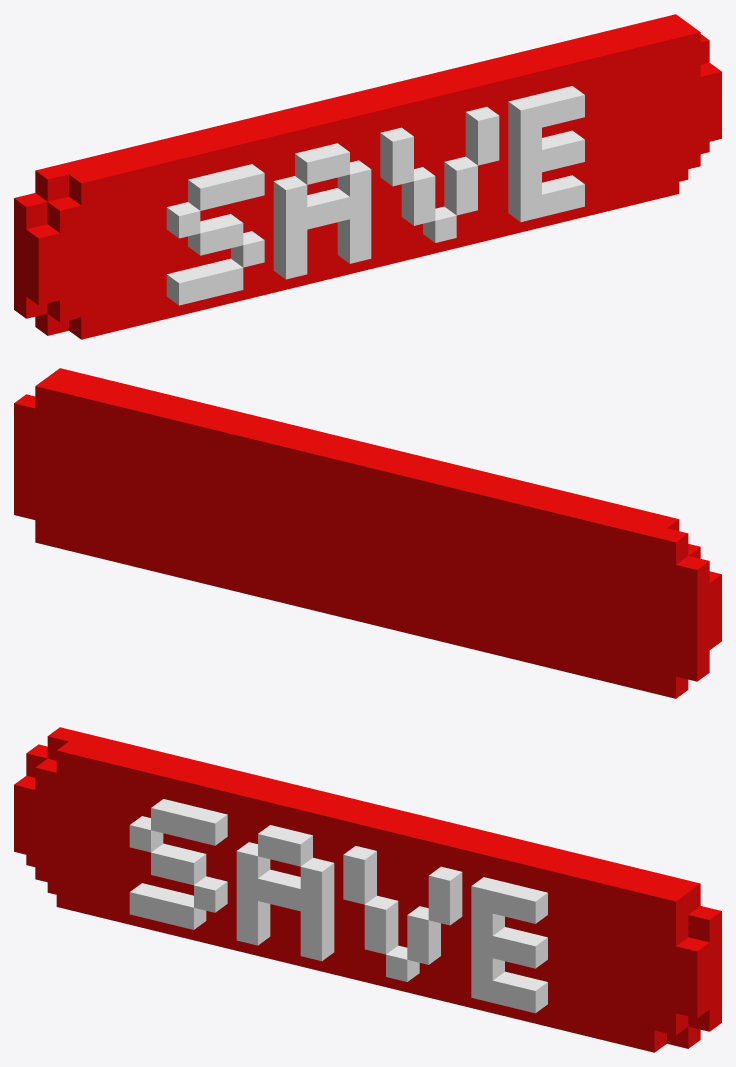
The model's file is save.obj.
3 views of the same model, one above another, from view 1: azimuth 30°, elevation 25°; view 2: azimuth 150°, elevation 25°; view 3: azimuth 330°, elevation 25° (orthographic).
Visible parts, largest first — view 1: save; view 2: save; view 3: save.
Part boxes in pixels (x1,y1,x2,y2): save: [14, 14, 721, 339]; save: [14, 368, 721, 698]; save: [14, 727, 721, 1052].
Bounding box in the file's own units: 32 × 7 × 3.
1 material, 1 textured.
